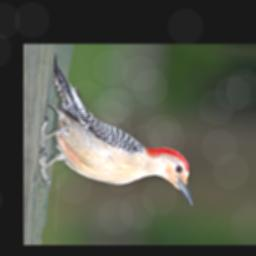Woodpecker: (35, 53, 204, 209)
